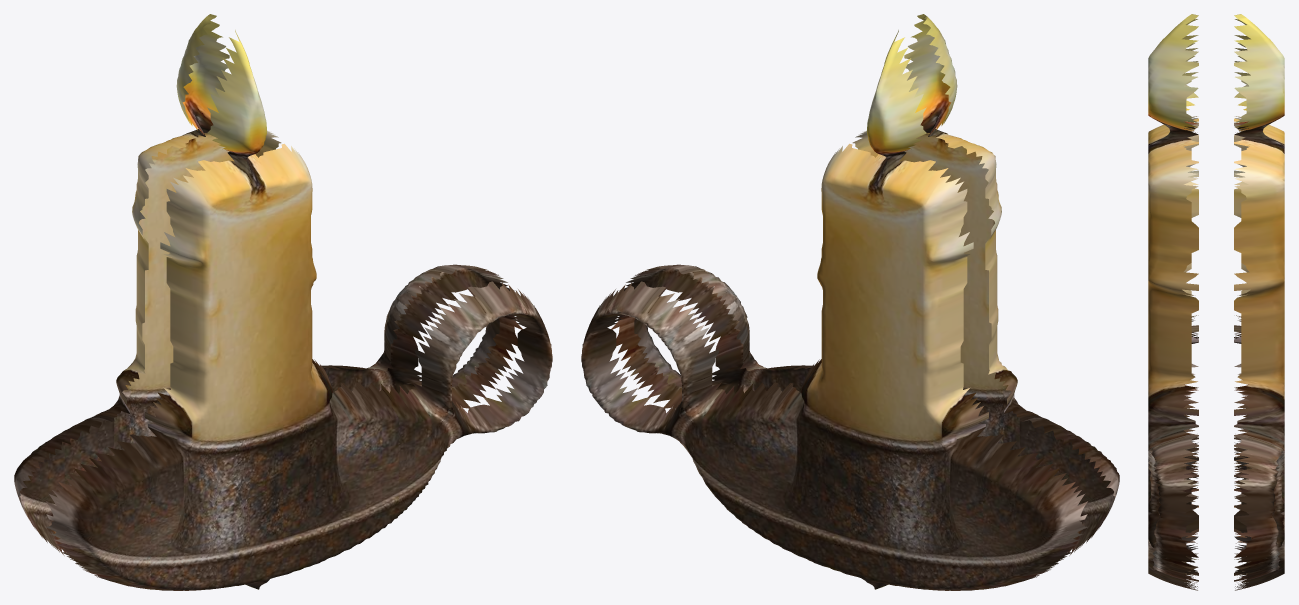
Rendered from v4-tavern-common-scatter-candle.glb.
3 renders of one model, left to right at view 1: azimuth 30°, elevation 25°; view 2: azimuth 150°, elevation 25°; view 3: azimuth 270°, elevation 25°, orthographic. The views are drawn at different scales.
Parts seen in each view (by area): view 1: v4-tavern-common-scatter-candle; view 2: v4-tavern-common-scatter-candle; view 3: v4-tavern-common-scatter-candle.
Part boxes in pixels (bbox=[...]): v4-tavern-common-scatter-candle: bbox=[14, 14, 552, 590]; v4-tavern-common-scatter-candle: bbox=[581, 14, 1119, 590]; v4-tavern-common-scatter-candle: bbox=[1148, 14, 1284, 590].
Bounding box in the file's own units: 0.2353 × 0.2471 × 0.0568.
Materials: 1 (1 with a texture image).
